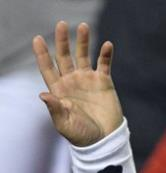down: (28, 19, 125, 139)
